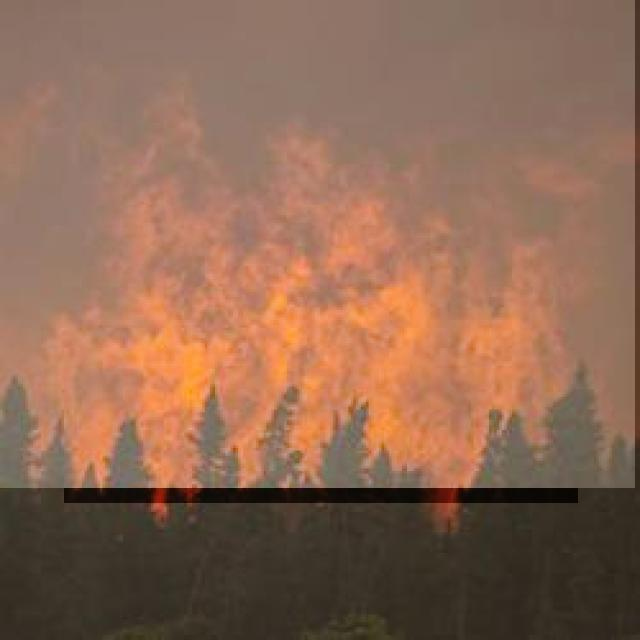Fire: (64, 167, 578, 503)
Smoke: (0, 0, 635, 488)
